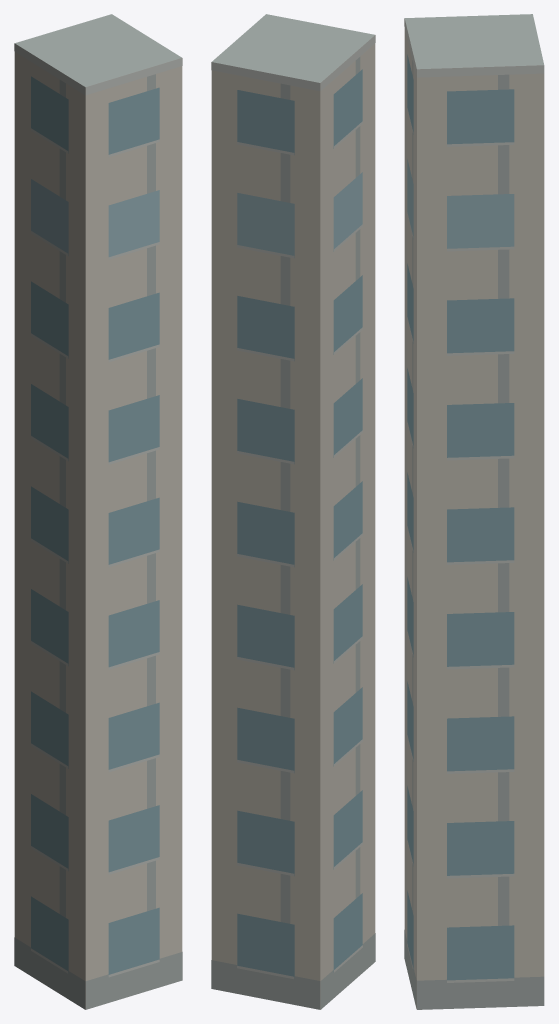
The model's file is survey-upis-32631571.glb.
3 views of the same model, side by side, from view 1: azimuth 30°, elevation 25°; view 2: azimuth 150°, elevation 25°; view 3: azimuth 270°, elevation 25° (orthographic).
Parts seen in each view (by area): view 1: survey-upis-32631571.tmp; view 2: survey-upis-32631571.tmp; view 3: survey-upis-32631571.tmp.
Part boxes in pixels (left/top/right/bottom): survey-upis-32631571.tmp: left=14, top=14, right=182, bottom=1009; survey-upis-32631571.tmp: left=211, top=14, right=375, bottom=1009; survey-upis-32631571.tmp: left=404, top=14, right=544, bottom=1009.
Bounding box in the file's own units: 3.47 × 27.45 × 3.71.
